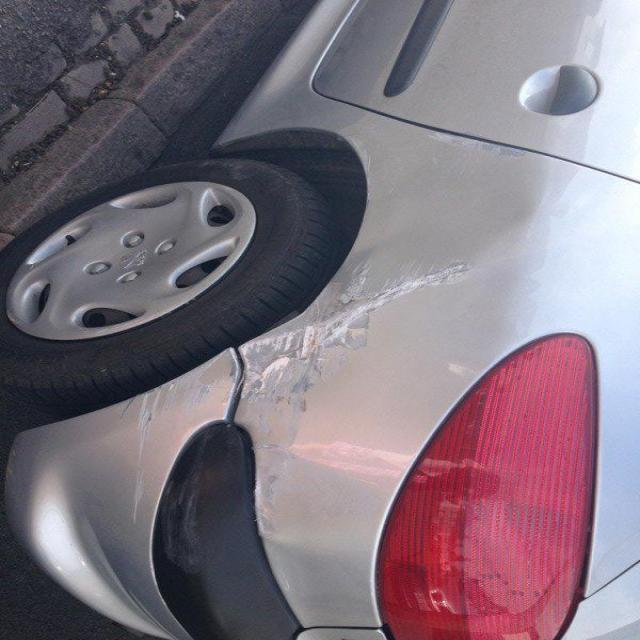scratch: (138, 246, 480, 452)
